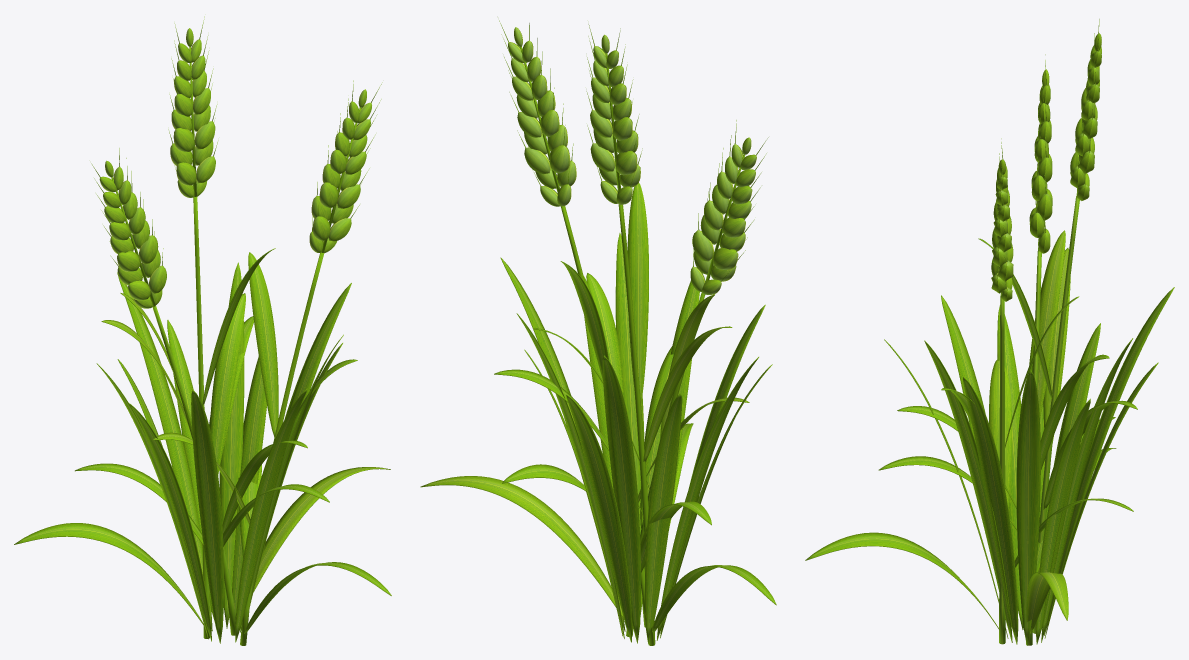
The model's file is NP_Wheat_Heading.fbx.
The picture shows the model from 3 angles, left to right: view 1: azimuth 30°, elevation 25°; view 2: azimuth 150°, elevation 25°; view 3: azimuth 270°, elevation 25°; orthographic projection. The views are drawn at different scales.
Visible parts, largest first — view 1: NP_Wheat_Heading; view 2: NP_Wheat_Heading; view 3: NP_Wheat_Heading.
Boxes of the visible parts, <box> form: NP_Wheat_Heading: <box>14,16,391,645</box>; NP_Wheat_Heading: <box>420,20,776,645</box>; NP_Wheat_Heading: <box>805,19,1174,645</box>.
Size of the model in its own units: 80.29 by 129 by 70.09.
